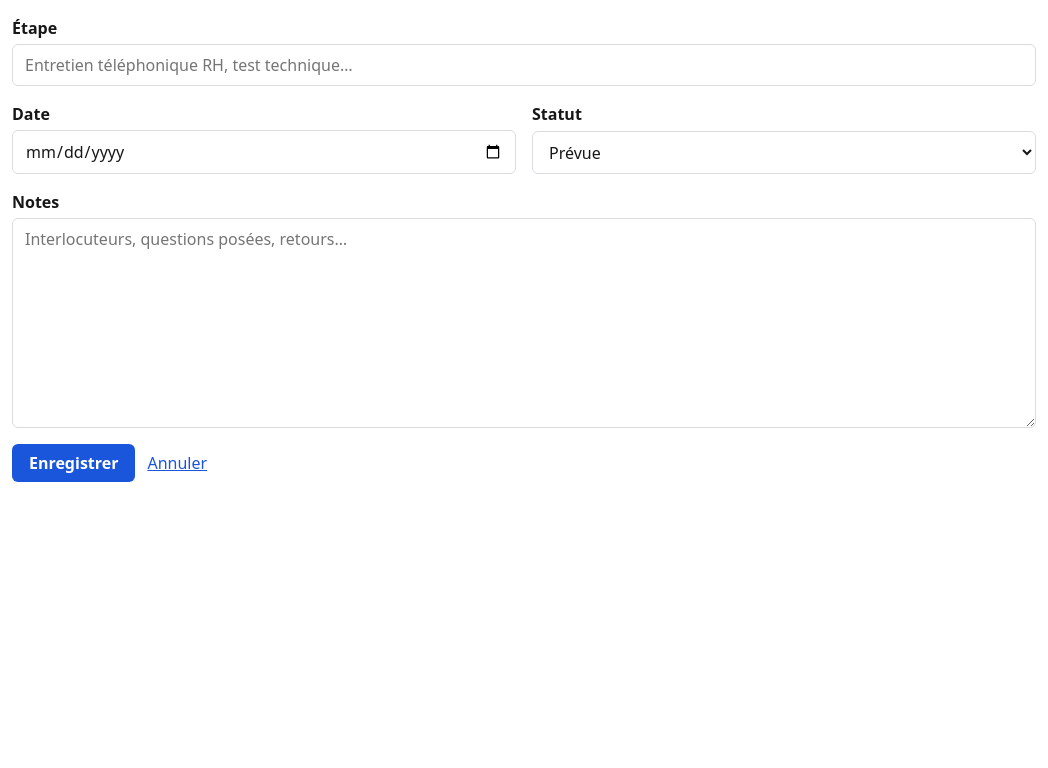
Test: InterviewStepForm › shows the errors returned by the action and keeps the values
Type "Appel" into the field labelled "Étape".
click(524, 65); type("Appel")  # box [12, 44, 1036, 86]
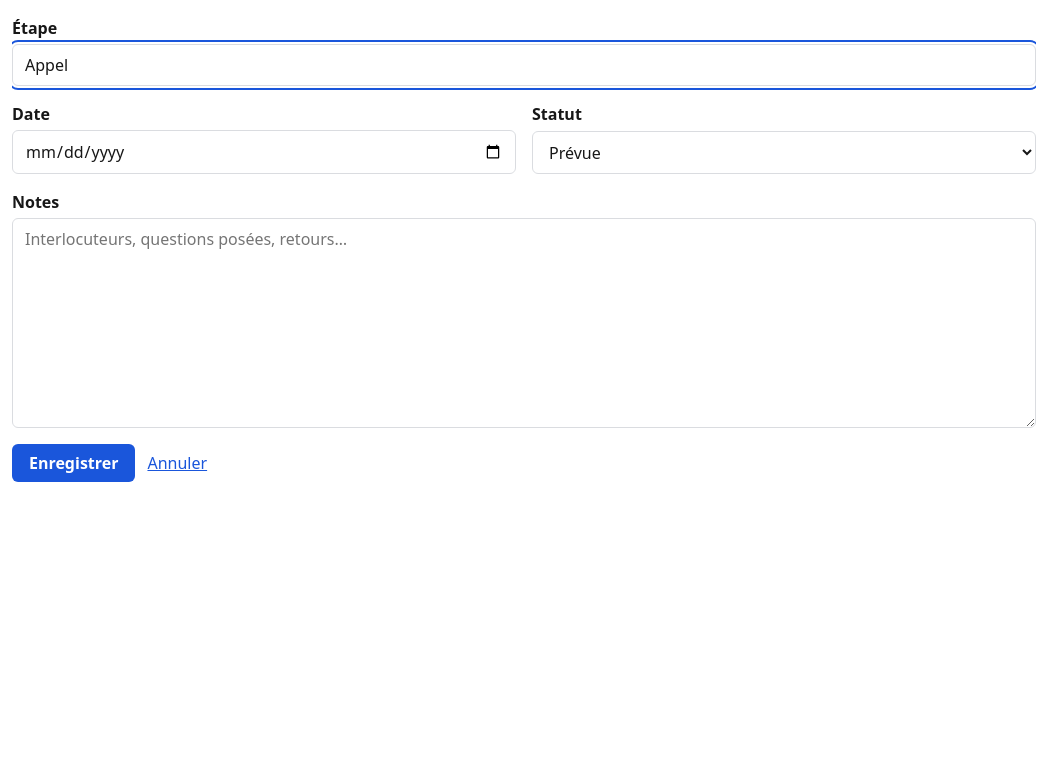
Click the button "Enregistrer".
click(74, 463)  # box [12, 444, 136, 482]
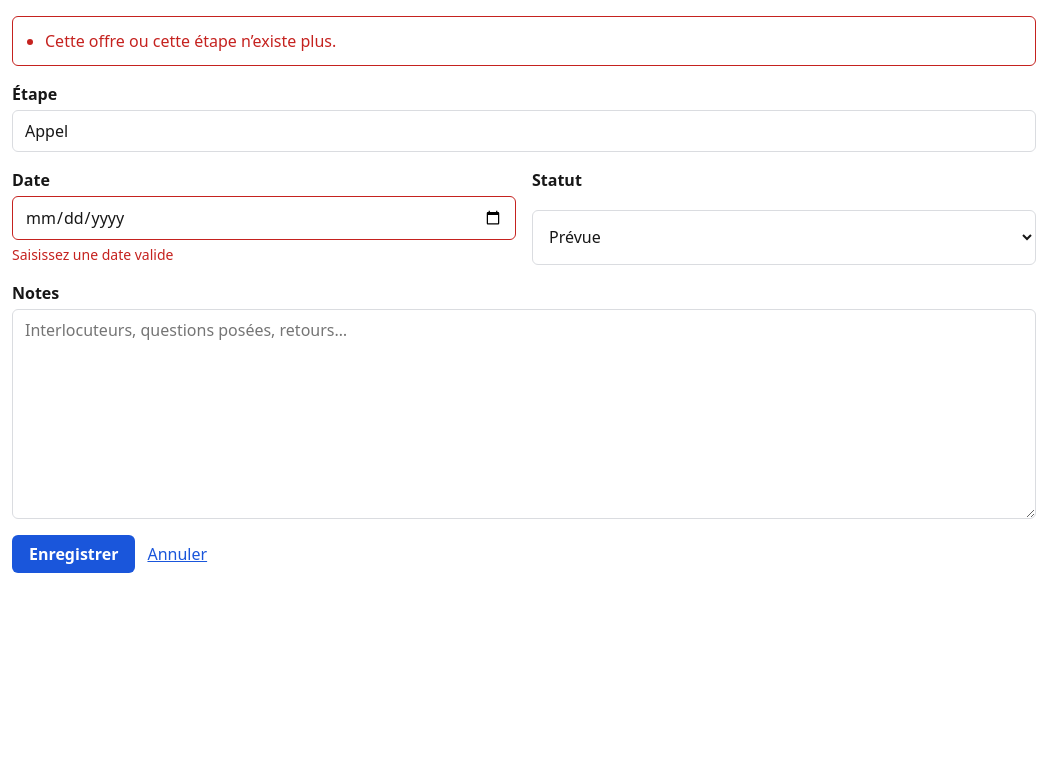
Expected: the message reads "Cette offre ou cette étape n’existe plus.", [45, 30, 336, 52]
